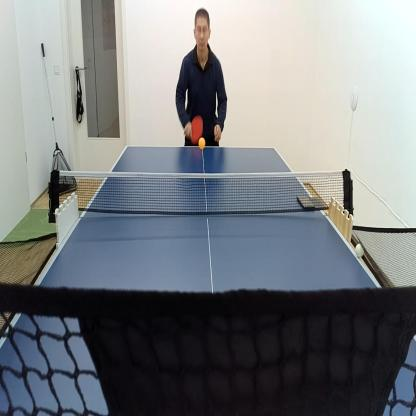Ball: (356, 243, 363, 257), (199, 140, 205, 148)
